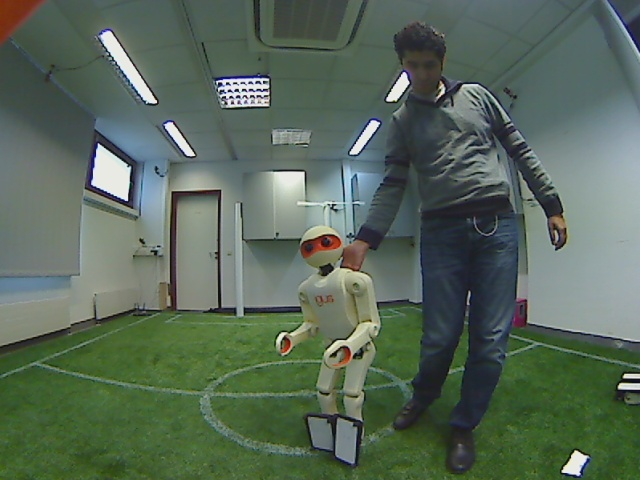robot: (273, 227, 386, 468)
